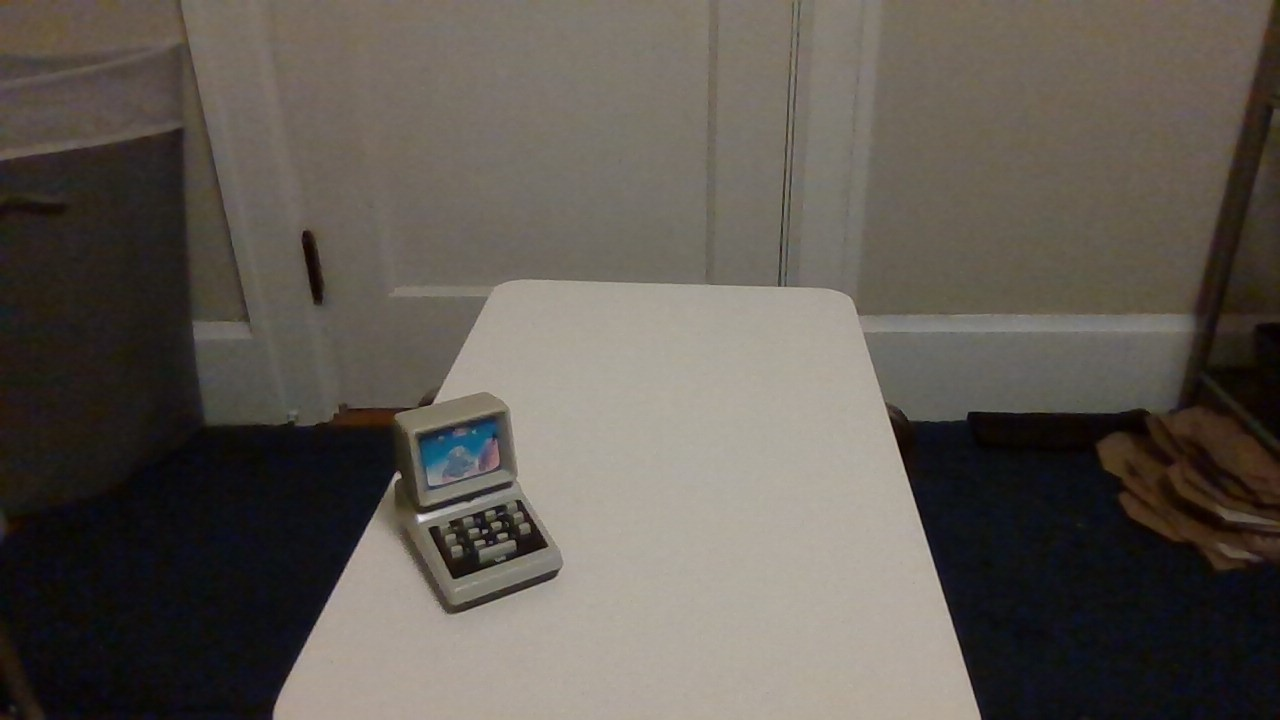Toy: (354, 379, 582, 621)
